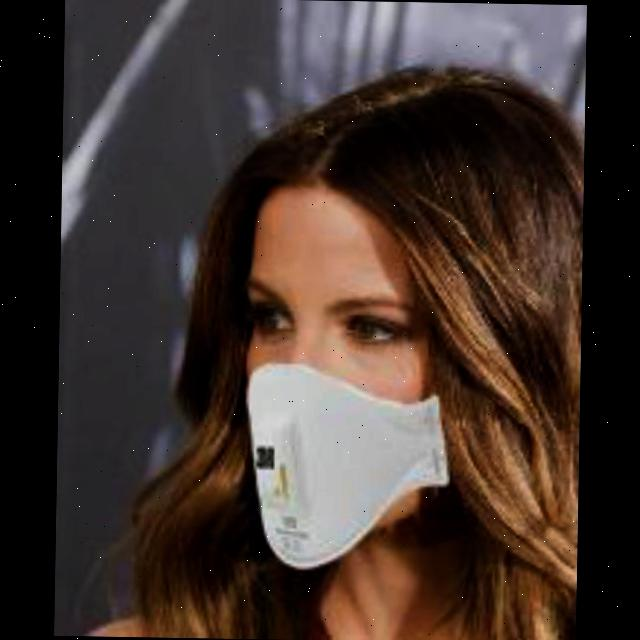suspicion: (194, 101, 496, 598)
